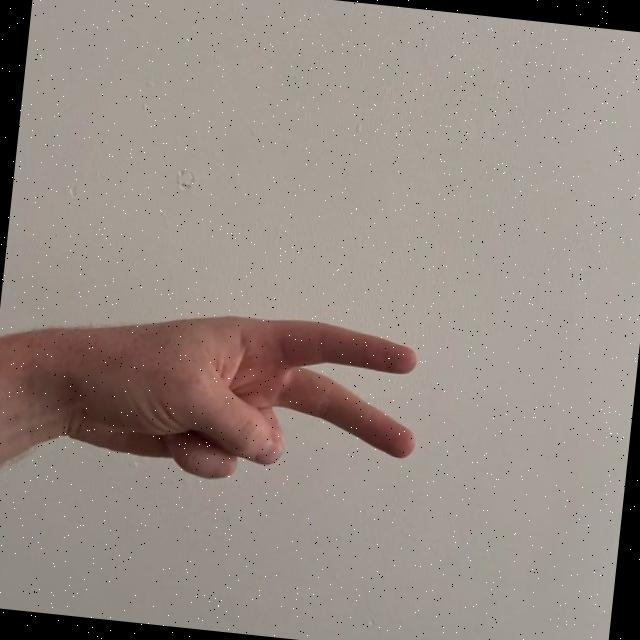scissors: (18, 286, 428, 504)
